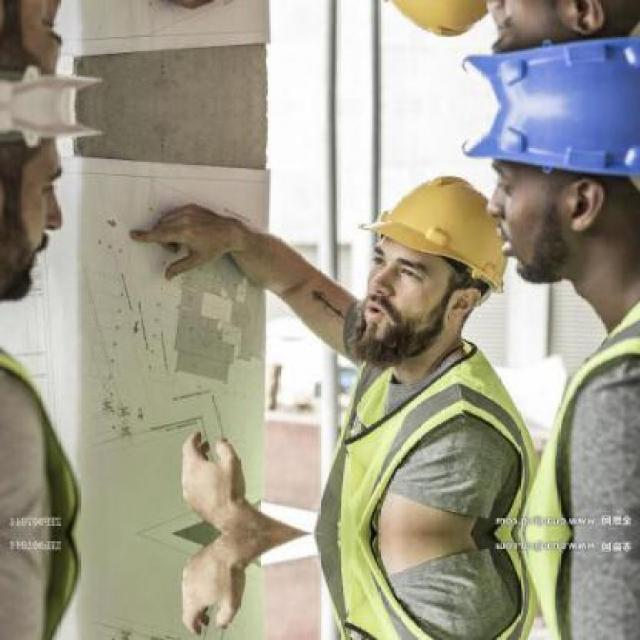Reflective-Jacket: (311, 332, 549, 636), (534, 257, 640, 640), (1, 293, 108, 640)
Safety-Helmet: (460, 26, 640, 193), (352, 167, 514, 296), (1, 93, 113, 153)
